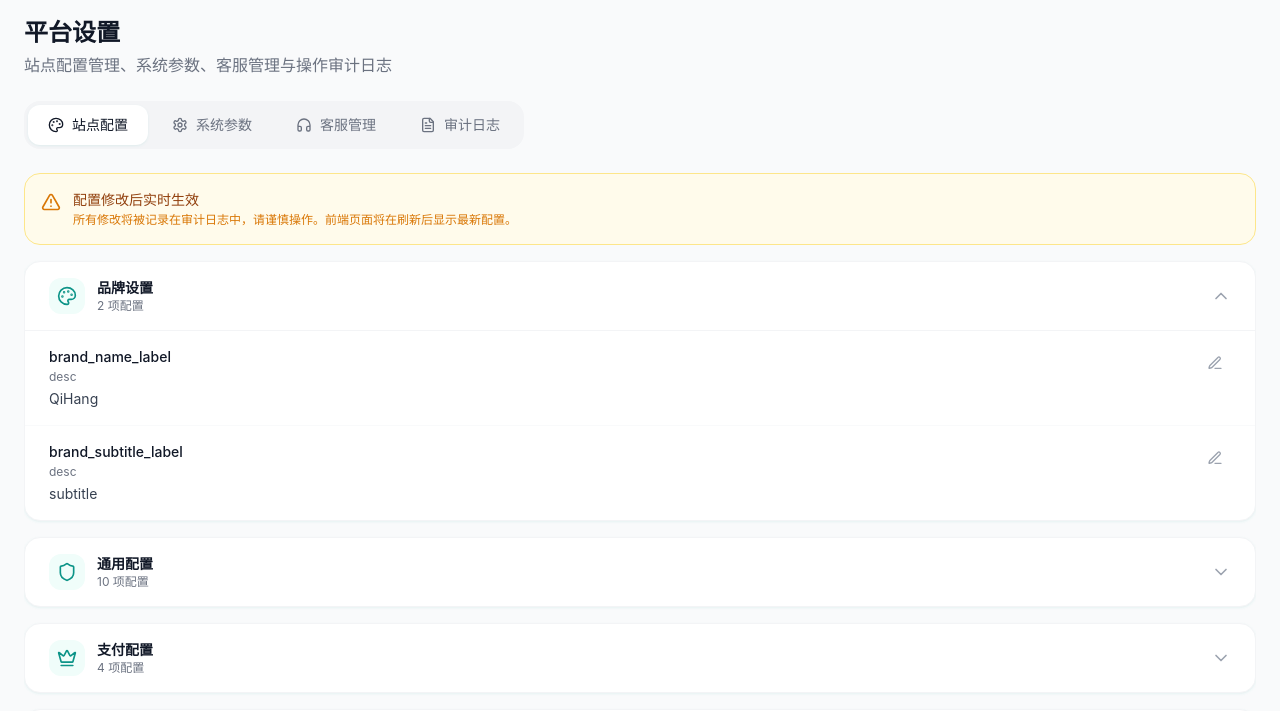
AdminSettings - Completion Features › Upload Limit › upload limit shows 5 param items
Step 1. Click the button "系统参数" → (212, 125), box [152,105,272,145]
(page scrolled)
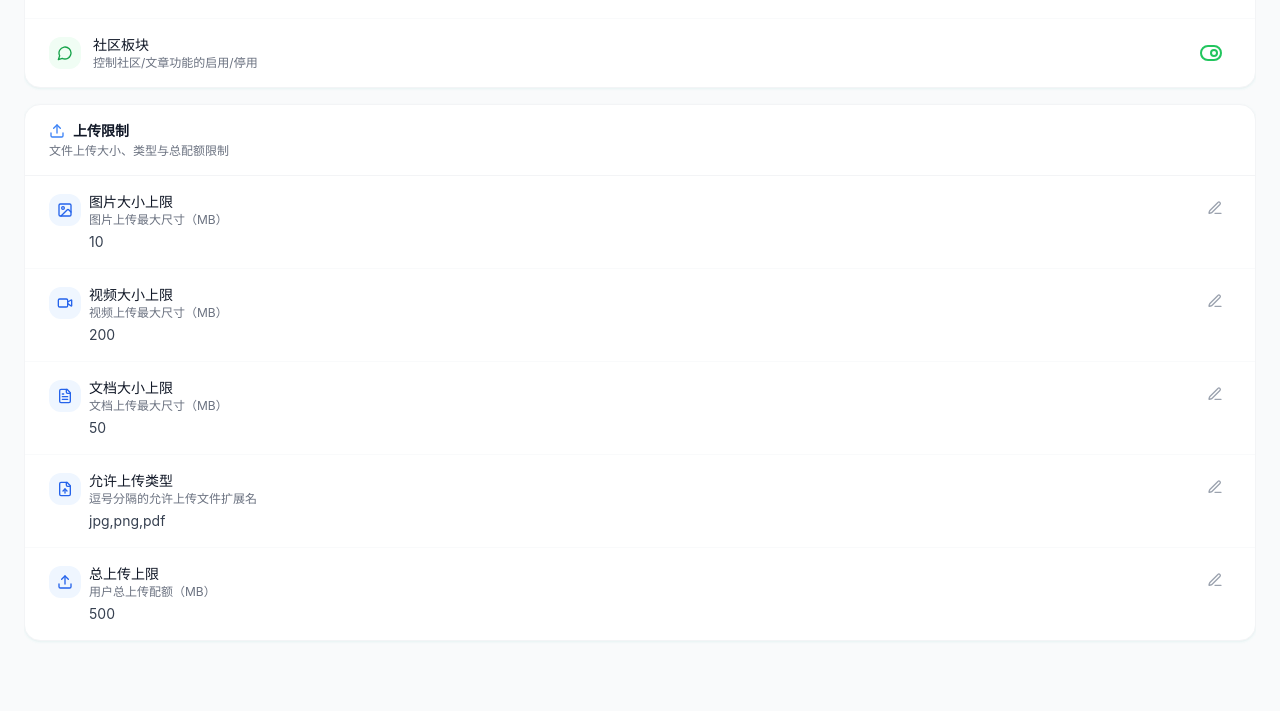
Expected: the heading "上传限制" is shown, [73,121,129,141]
Expected: the text "图片大小上限" is shown, [89,193,173,210]
Expected: the text "视频大小上限" is shown, [89,286,173,303]
